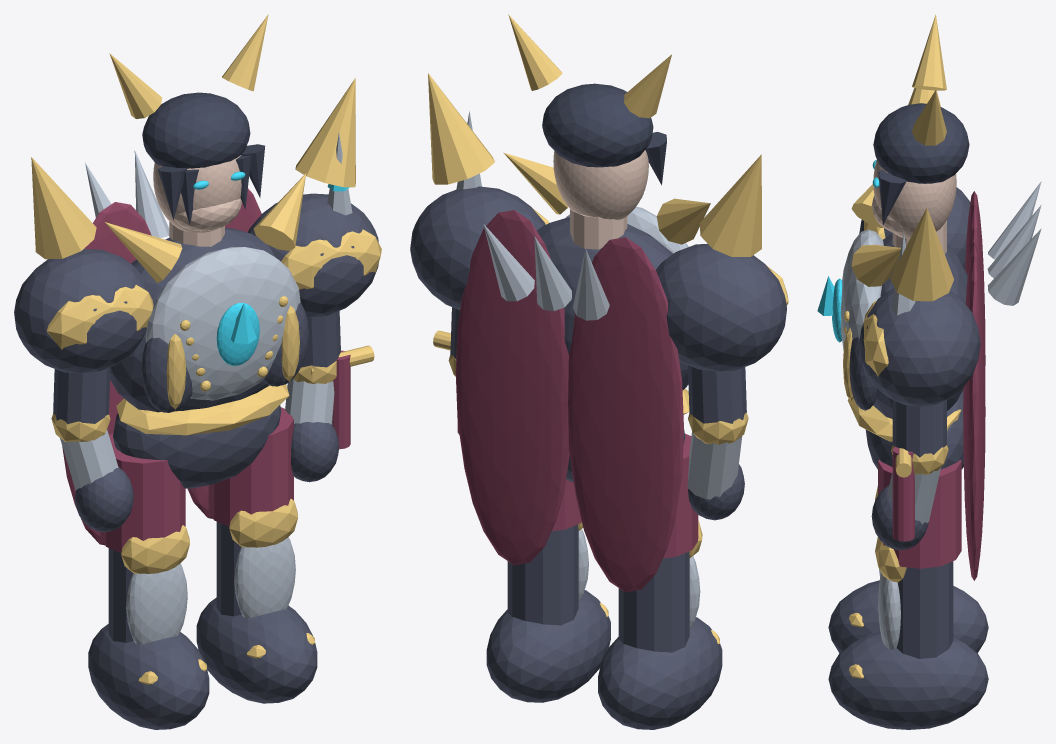
Rendered from demonlord_legendary_armor.glb.
3 views of the same model, side by side, from view 1: azimuth 30°, elevation 25°; view 2: azimuth 150°, elevation 25°; view 3: azimuth 270°, elevation 25° (orthographic). The views are drawn at different scales.
Parts seen in each view (by area): view 1: breastplate, L_shoulder, L_boot, R_boot, hair_cap, pelvis, R_shoulder, R_thigh, L_thigh, core, waist_belt, L_shin_plate (+37 smaller); view 2: cape_panel_-1, cape_panel_1, L_shoulder, L_boot, R_boot, R_shoulder, hair_cap, R_shin, L_shin, face, L_pauldron_spike, R_pauldron_spike (+19 smaller); view 3: R_boot, R_shoulder, cape_panel_1, hair_cap, R_shin, R_thigh, L_boot, R_pauldron_spike, face, R_upper_arm, breastplate, sword_grip (+26 smaller).
Boxes of the visible parts, <box> form: breastplate: <box>145,247,300,400</box>; L_shoulder: <box>14,249,148,373</box>; L_boot: <box>88,624,209,729</box>; R_boot: <box>196,597,317,703</box>; hair_cap: <box>142,92,250,168</box>; pelvis: <box>113,405,281,488</box>; R_shoulder: <box>248,193,378,317</box>; R_thigh: <box>208,407,293,526</box>; L_thigh: <box>100,434,185,552</box>; core: <box>110,228,275,412</box>; waist_belt: <box>116,384,289,435</box>; L_shin_plate: <box>126,563,187,644</box>; cape_panel_-1: <box>568,237,683,592</box>; cape_panel_1: <box>455,210,569,565</box>; L_shoulder: <box>656,243,786,371</box>; L_boot: <box>598,617,722,729</box>; R_boot: <box>486,590,610,702</box>; R_shoulder: <box>410,186,545,310</box>; hair_cap: <box>542,83,653,167</box>; R_shin: <box>507,524,578,625</box>; L_shin: <box>618,551,689,652</box>; face: <box>553,150,648,219</box>; L_pauldron_spike: <box>699,154,761,256</box>; R_pauldron_spike: <box>428,73,494,184</box>; R_boot: <box>828,631,988,729</box>; R_shoulder: <box>859,288,980,406</box>; cape_panel_1: <box>963,242,985,580</box>; hair_cap: <box>873,103,969,183</box>; R_shin: <box>896,561,953,658</box>; R_thigh: <box>878,459,961,568</box>; L_boot: <box>828,580,988,652</box>; R_pauldron_spike: <box>890,208,953,301</box>; face: <box>873,159,956,238</box>; R_upper_arm: <box>892,399,946,457</box>; breastplate: <box>841,229,883,349</box>; sword_grip: <box>892,446,914,541</box>.
Size of the model in its own units: 1.24 by 2.23 by 0.6997.
